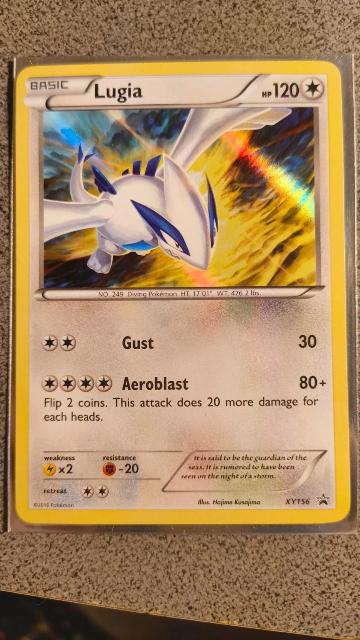Card: (11, 57, 355, 529)
Name: (90, 78, 146, 104)
